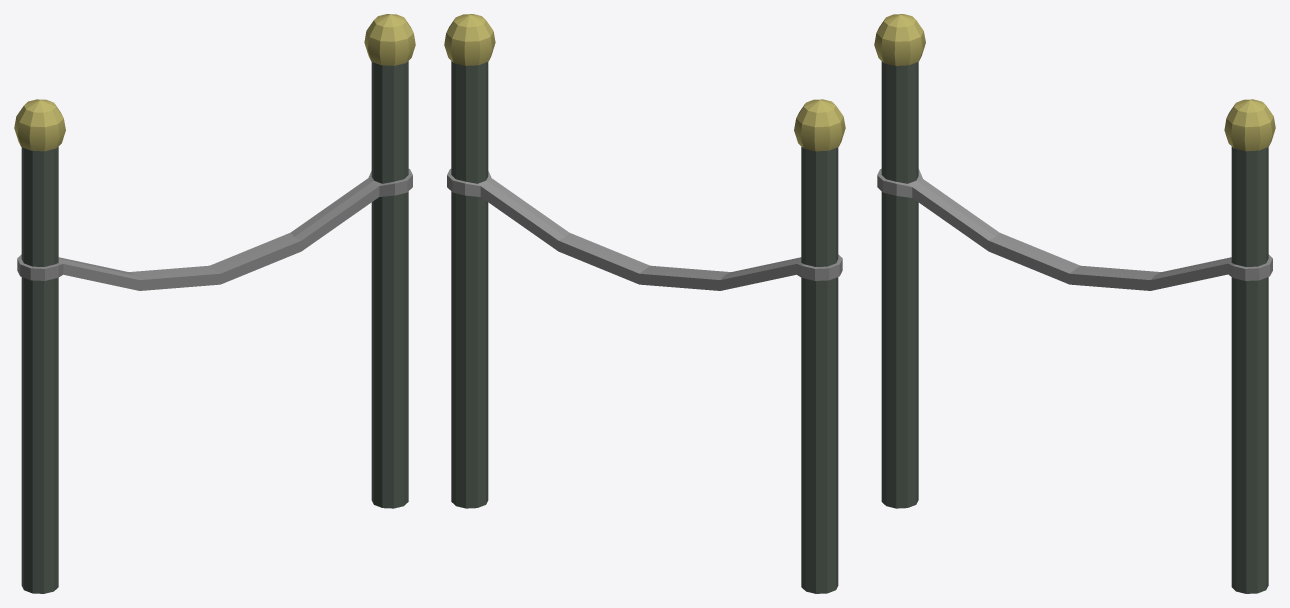
File: Valla tipo 1.fbx
The picture shows the model from 3 angles, left to right: view 1: azimuth 30°, elevation 25°; view 2: azimuth 150°, elevation 25°; view 3: azimuth 330°, elevation 25°; orthographic projection.
Visible parts, largest first — view 1: Valla_tipo_1; view 2: Valla_tipo_1; view 3: Valla_tipo_1.
Boxes of the visible parts, x1,y1,x2,y2 form: Valla_tipo_1: (14,14,415,593); Valla_tipo_1: (444,14,845,593); Valla_tipo_1: (874,14,1275,593).
Size of the model in its own units: 2.76 by 3.25 by 0.3003.
